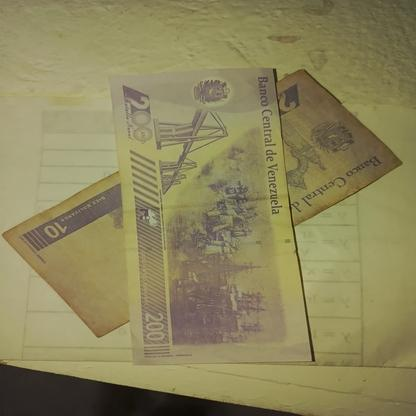ten-back-vef: (3, 69, 402, 338)
two_hundred-back-vef: (108, 69, 314, 367)
